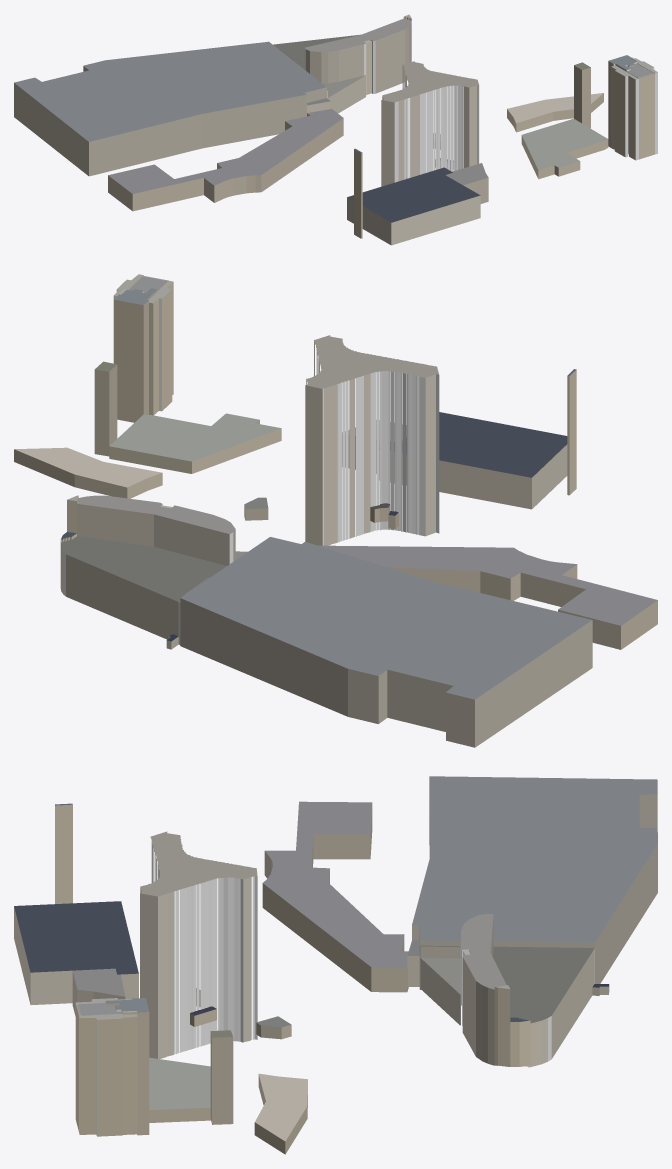
The picture shows the model from 3 angles, top to bottom: view 1: azimuth 30°, elevation 25°; view 2: azimuth 150°, elevation 25°; view 3: azimuth 270°, elevation 25°; orthographic projection. The views are drawn at different scales.
Parts seen in each view (by area): view 1: tuile; view 2: tuile; view 3: tuile.
Part boxes in pixels (left/top/right/bottom): tuile: left=14, top=14, right=657, bottom=245; tuile: left=14, top=274, right=657, bottom=747; tuile: left=14, top=776, right=657, bottom=1154.
Size of the model in its own units: 323 by 75.22 by 269.
